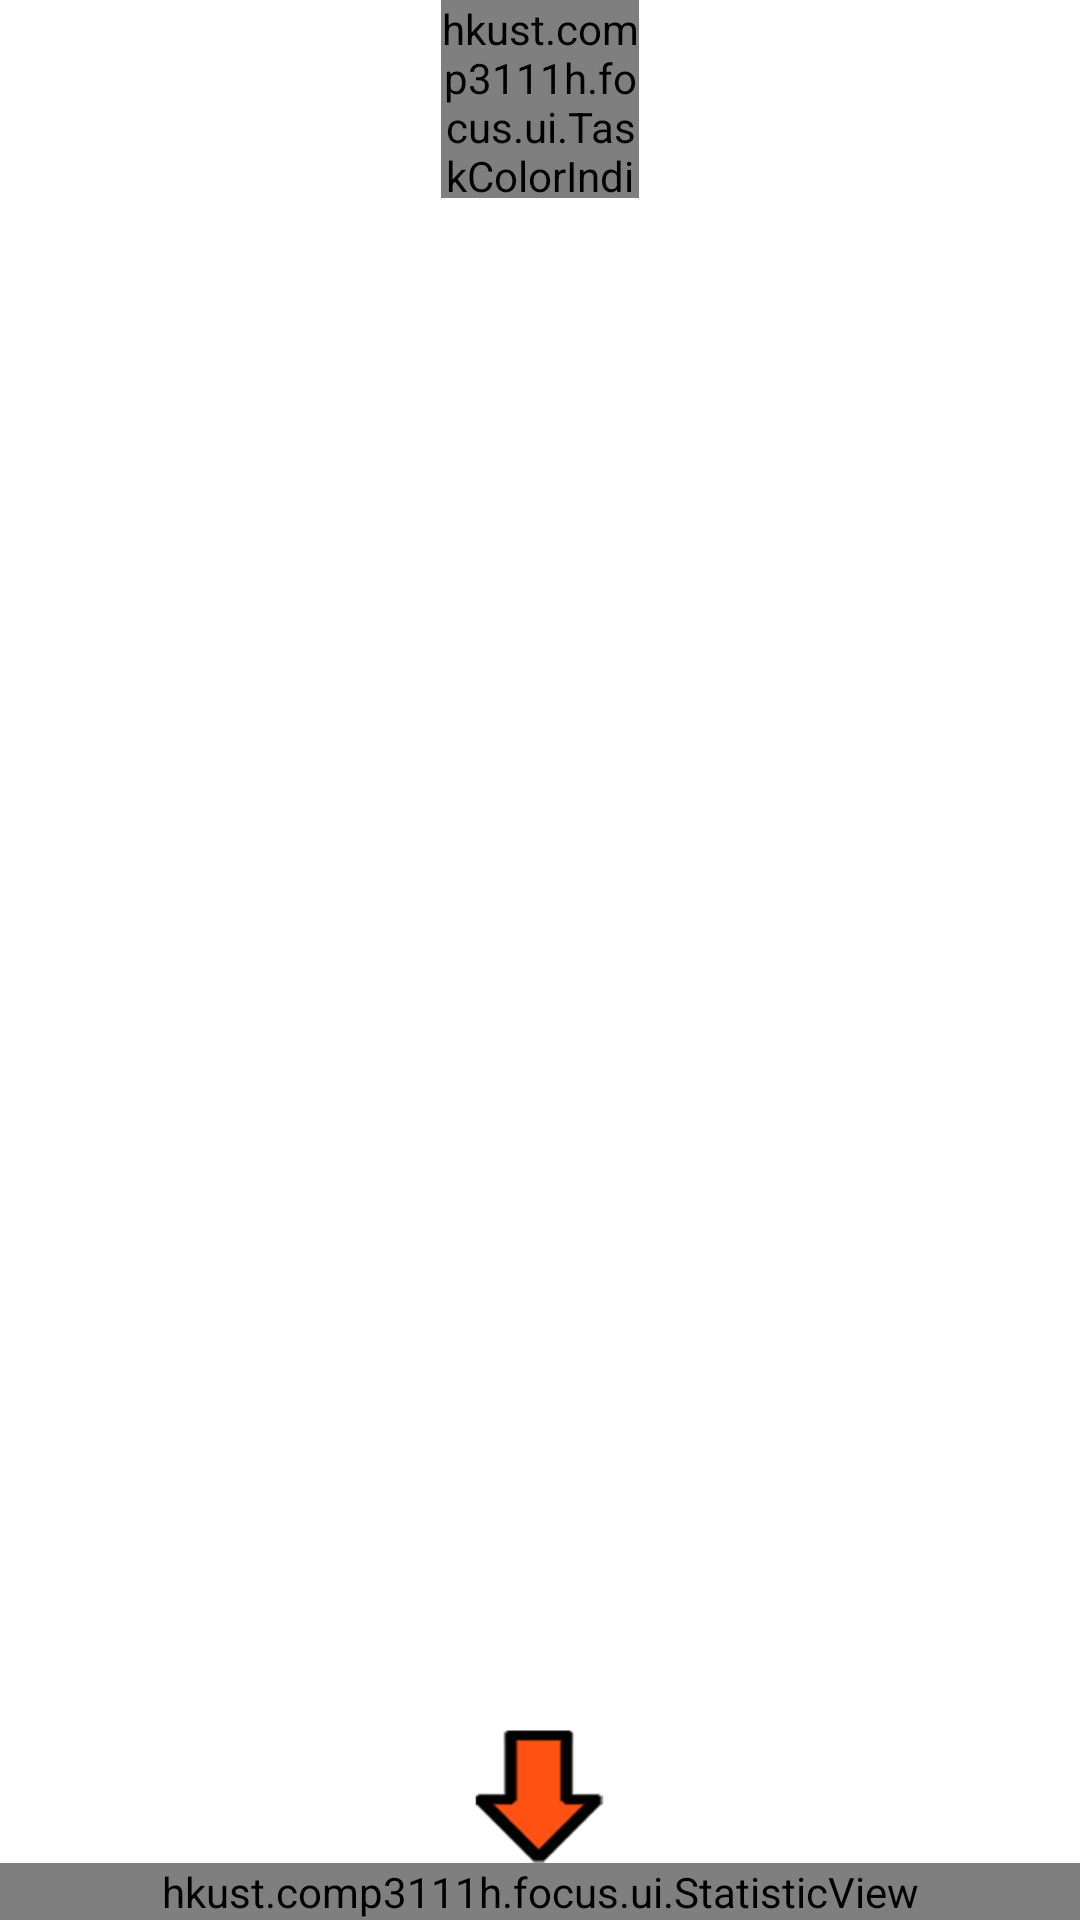

Icon bounding boxes for this 1080*1920 phone screenshot, format (x1, y1, x2, y2):
down arrow: (475, 1730, 604, 1863)
